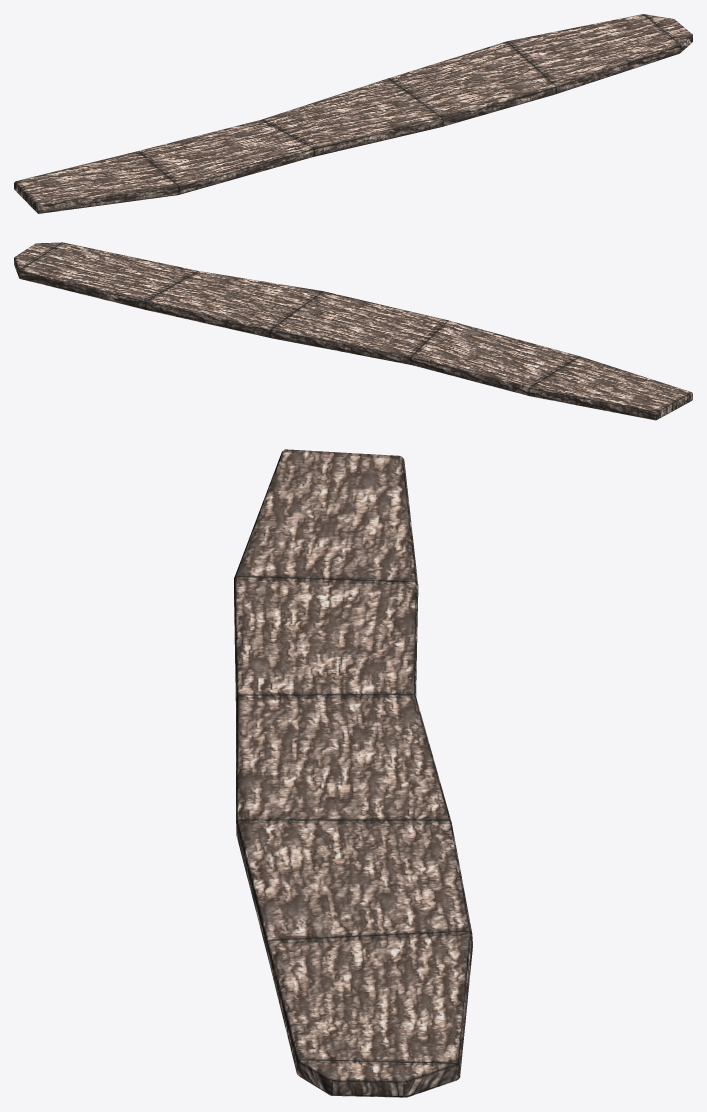
The model's file is wood_plank.fbx.
3 renders of one model, top to bottom at view 1: azimuth 30°, elevation 25°; view 2: azimuth 150°, elevation 25°; view 3: azimuth 270°, elevation 25°, orthographic. The views are drawn at different scales.
Parts seen in each view (by area): view 1: wood_plank; view 2: wood_plank; view 3: wood_plank.
Boxes of the visible parts, left/top/right/bottom form: wood_plank: left=14, top=14, right=692, bottom=213; wood_plank: left=14, top=242, right=692, bottom=420; wood_plank: left=234, top=449, right=472, bottom=1097.
Size of the model in its own units: 195 by 4.23 by 31.05.
